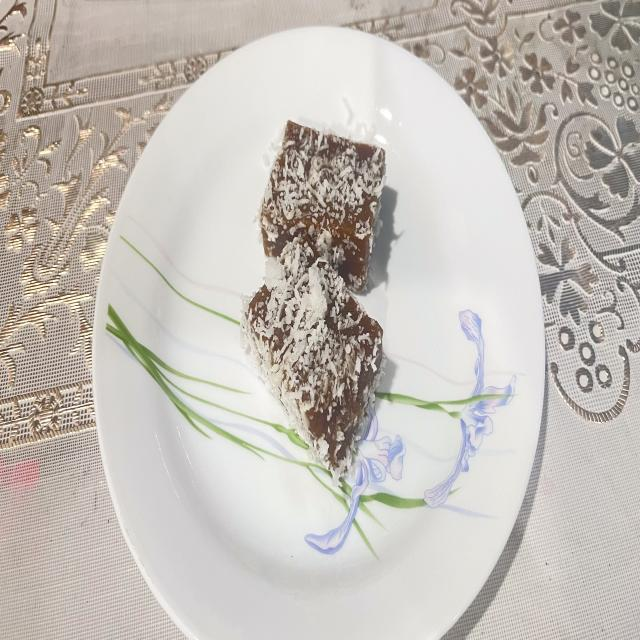kaswi: (241, 240, 384, 480), (260, 120, 385, 291)
